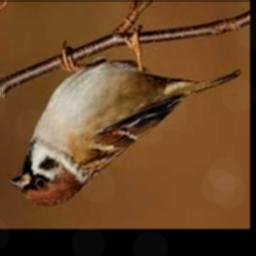Sparrow: (10, 26, 242, 207)
